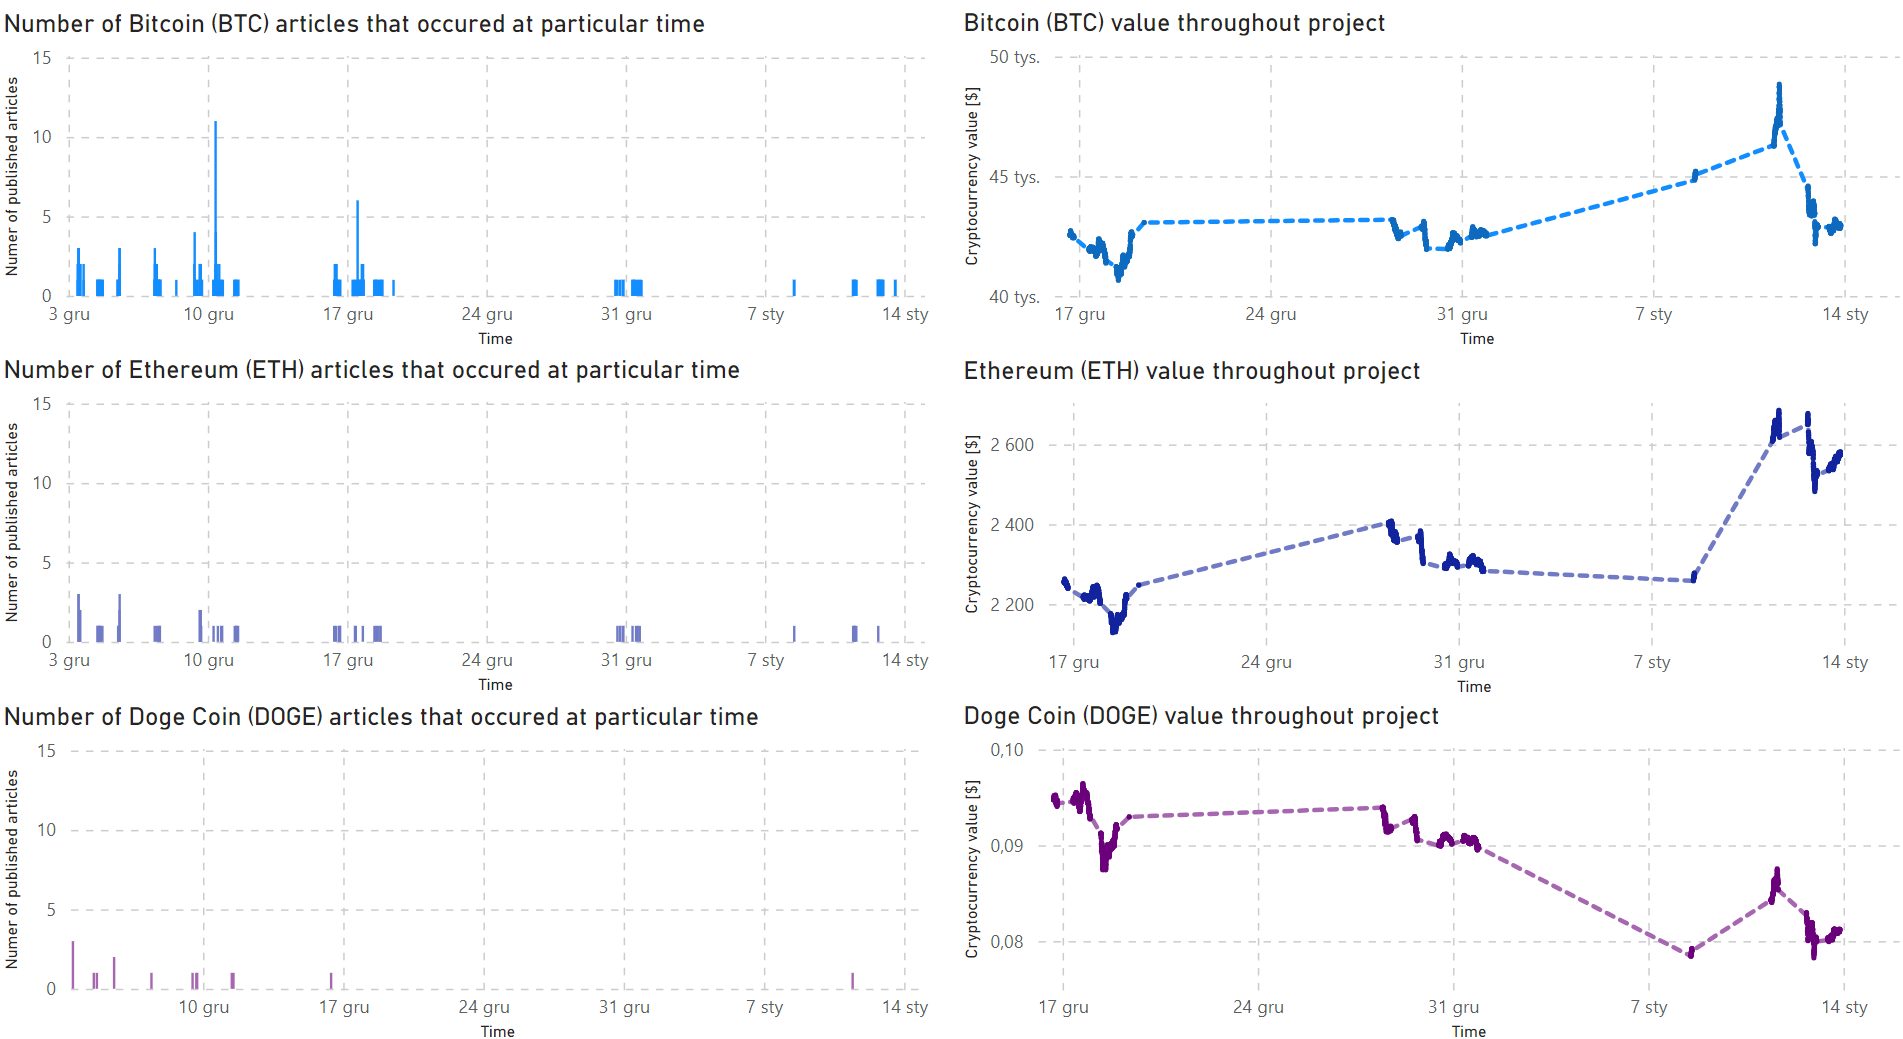

The page's visual inventory and layout, read from the dashboard file:
{"tool":"powerbi","page":{"name":"Batch Views","canvas":[1280,720],"ordinal":1},"visuals":[{"type":"clusteredColumnChart","title":"Number of Bitcoin (BTC) articles that occured at particular time","fields":{"Y":["CountNonNull(cryptonews.article_id)"],"Category":["cryptonews.time_stamp"]},"box":[0,26.7,640,230.8],"z":0},{"type":"clusteredColumnChart","title":"Number of Ethereum (ETH) articles that occured at particular time","fields":{"Y":["CountNonNull(cryptonews.article_id)"],"Category":["cryptonews.time_stamp"]},"box":[0,257.5,640,230.8],"z":1000},{"type":"clusteredColumnChart","title":"Number of Doge Coin (DOGE) articles that occured at particular time","fields":{"Y":["CountNonNull(cryptonews.article_id)"],"Category":["cryptonews.time_stamp"]},"box":[0,488.3,640,230.8],"z":2000},{"type":"lineChart","title":"Bitcoin (BTC) value throughout project","fields":{"Category":["cryptorates.time_stamp"],"Y":["Avg(cryptorates.rateusd)"]},"box":[640,25.8,640,231.7],"z":3000},{"type":"lineChart","title":"Ethereum (ETH) value throughout project","fields":{"Category":["cryptorates.time_stamp"],"Y":["Avg(cryptorates.rateusd)"]},"box":[640,257.8,640,231.7],"z":4000},{"type":"lineChart","title":"Doge Coin (DOGE) value throughout project","fields":{"Category":["cryptorates.time_stamp"],"Y":["Avg(cryptorates.rateusd)"]},"box":[640,488.2,640,231.7],"z":5000}]}

Visuals, with their boxes on the page's 1280x720 design canvas (x1, y1, x2, y2). These are canvas units, not pixel positions in the 1903x1039 screenshot, which may show the page scaled, cropped or inside an application window:
"Number of Bitcoin (BTC) articles that occured at particular time" clusteredColumnChart: 0/27/640/258
"Number of Ethereum (ETH) articles that occured at particular time" clusteredColumnChart: 0/258/640/488
"Number of Doge Coin (DOGE) articles that occured at particular time" clusteredColumnChart: 0/488/640/719
"Bitcoin (BTC) value throughout project" lineChart: 640/26/1280/258
"Ethereum (ETH) value throughout project" lineChart: 640/258/1280/490
"Doge Coin (DOGE) value throughout project" lineChart: 640/488/1280/720
